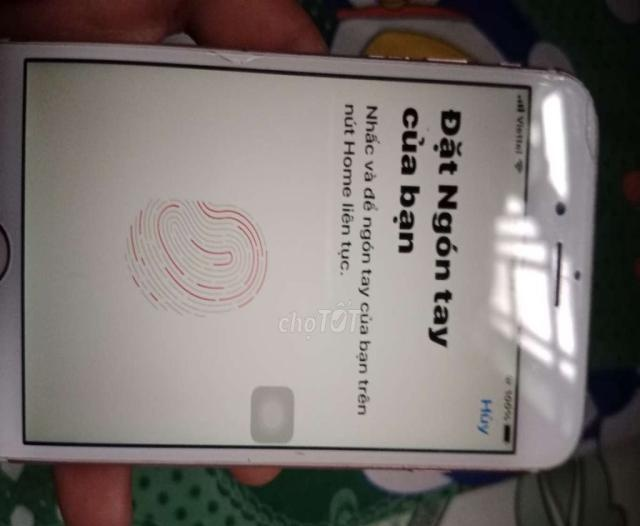scratch: (192, 29, 305, 93), (580, 75, 608, 186)
